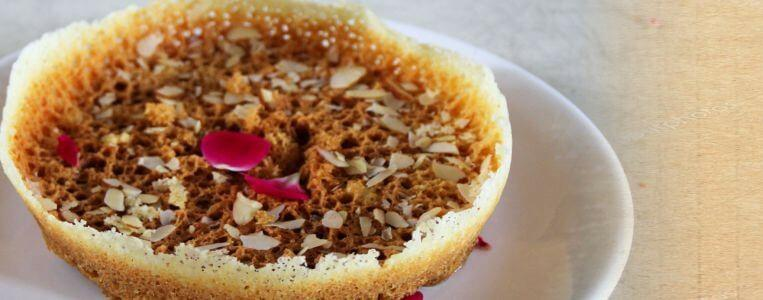Ghevar: (0, 1, 510, 300)
